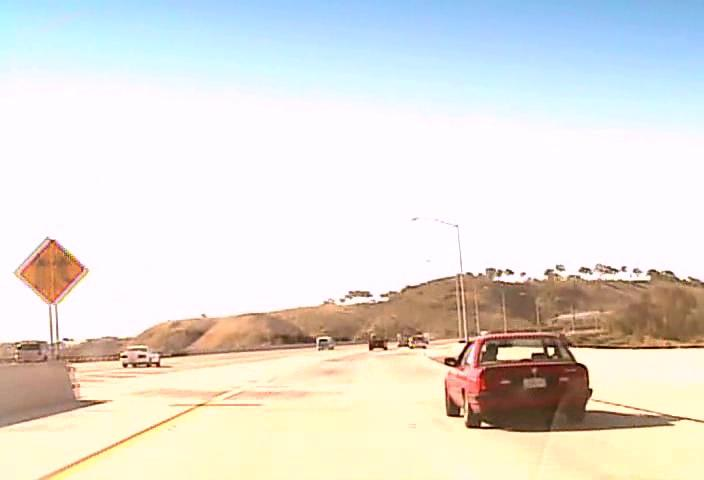addedLane: (16, 238, 88, 304)
